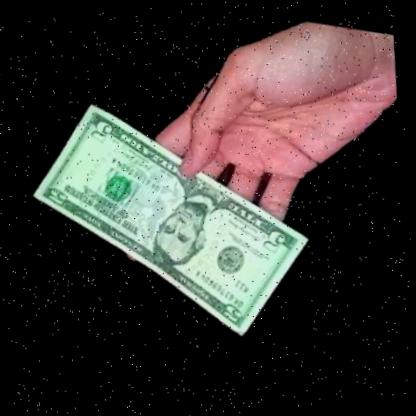five-front: (0, 60, 360, 377)
